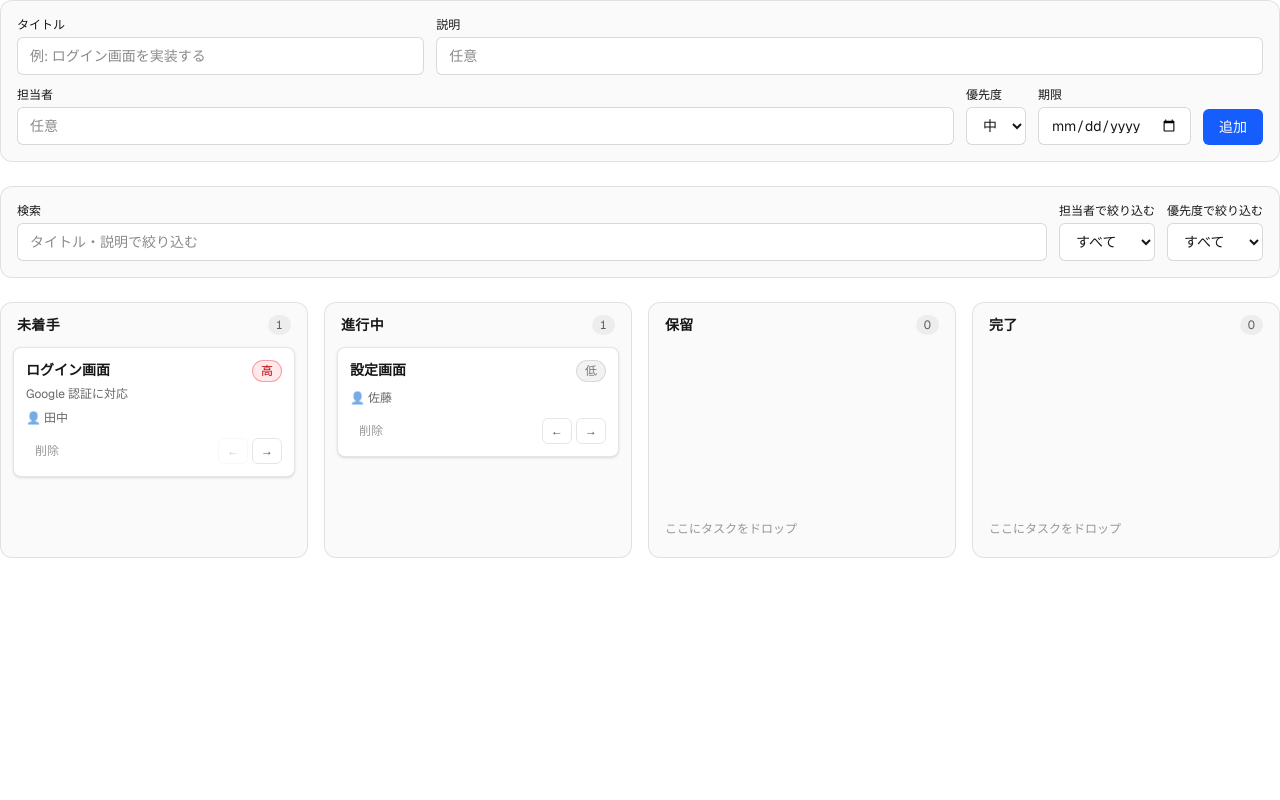
Scenario: Board の絞り込み › 絞り込みを解除すると全件に戻る
Type "ログイン" into the search field labelled "検索".
click(532, 242); type("ログイン")  # box [17,223,1047,261]
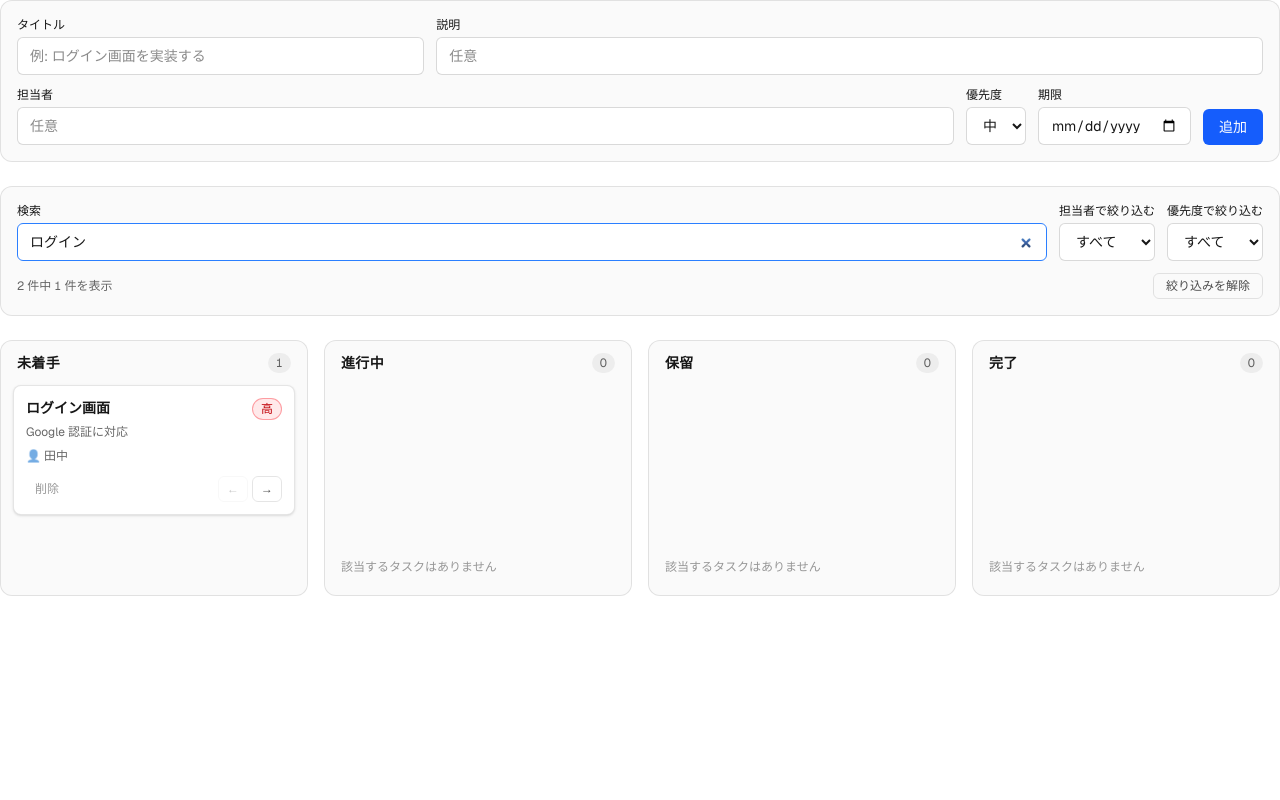
Click the button "絞り込みを解除".
click(1208, 286)  # box [1153,273,1263,299]
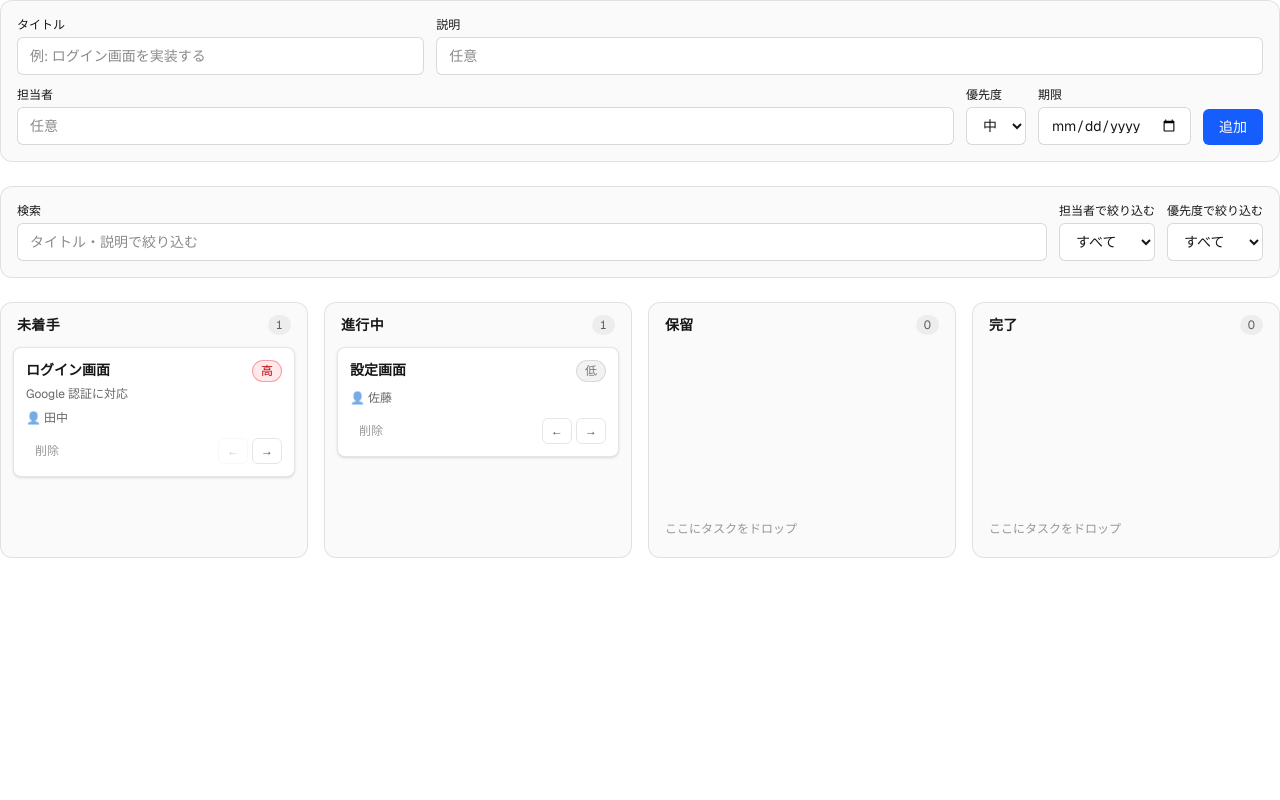
Expected: the heading "ログイン画面" is shown, [26,360,110,380]
Expected: the heading "設定画面" is shown, [350,360,406,380]
Expected: the search field labelled "検索" is empty, [17,223,1047,261]
